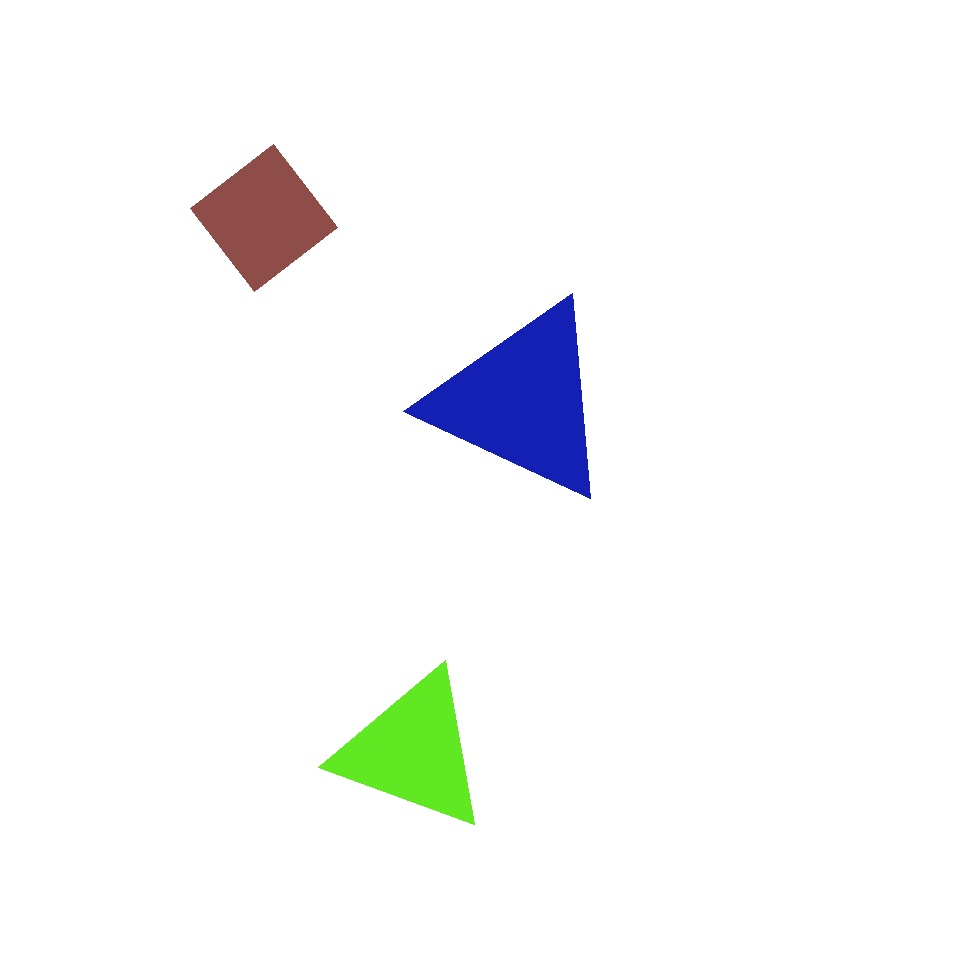circle: (428, 299, 616, 504), (335, 669, 491, 833), (329, 468, 421, 548)
square: (548, 408, 858, 717), (23, 684, 260, 922), (722, 640, 914, 832), (191, 144, 338, 292)
